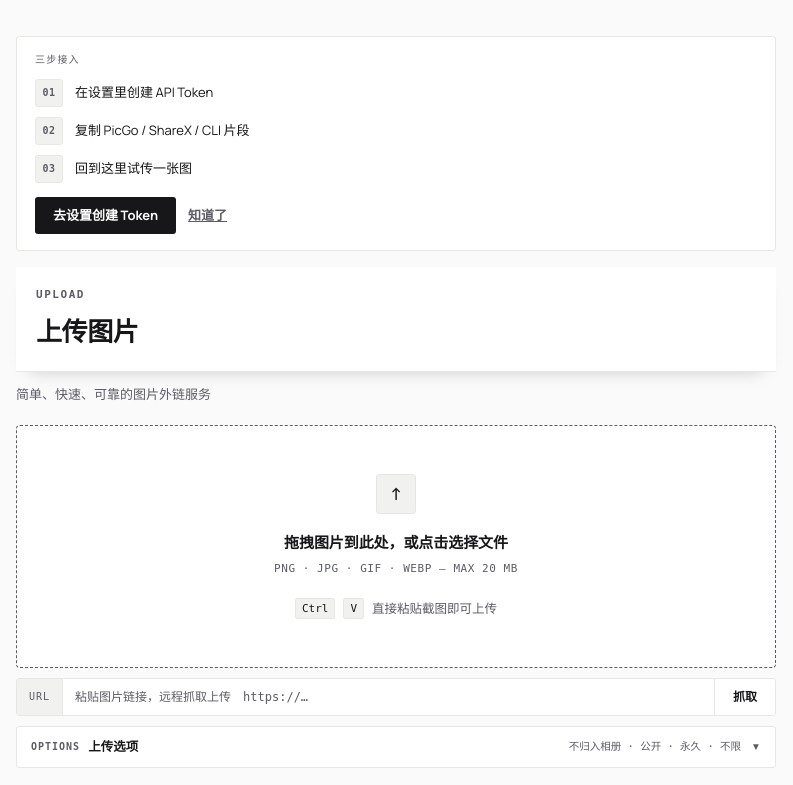
Test: 选项面板默认收起，展开含相册、可见性与有效期（无存储策略）
Expected: the text "PNG · JPG · GIF · WEBP — MAX 20 MB" is shown, [274,562,518,575]
Expected: the text "上传到相册" is not shown
Step 1. Click the button "OPTIONS 上传选项 不归入相册 · 公开 · 永久 · 不限 ▼" → (56, 747), box [17,727,775,766]
(page scrolled)
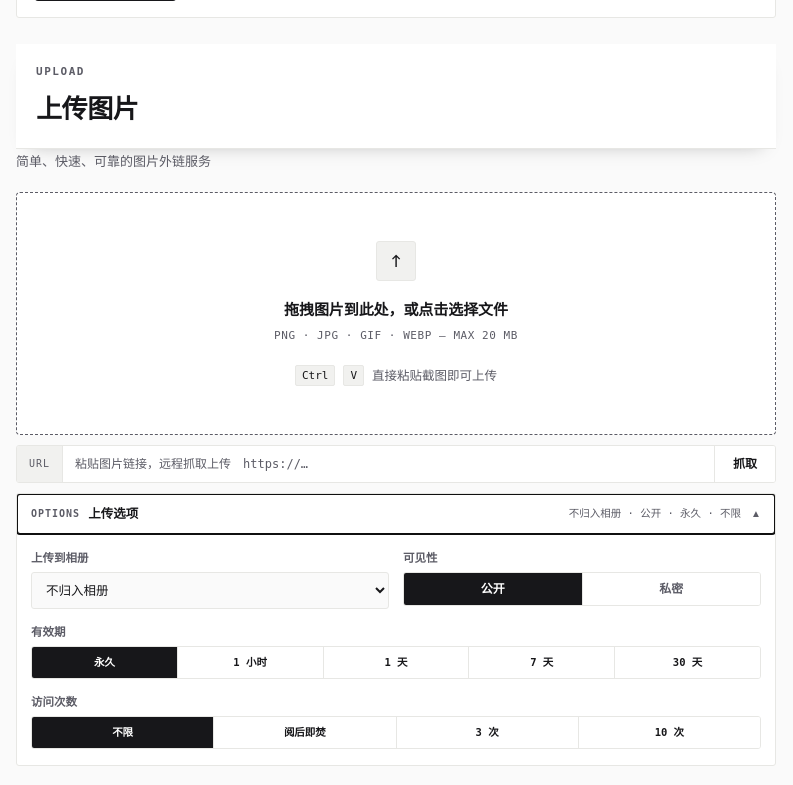
Result: the text "上传到相册" is shown at [31,550,88,564]
Result: the button "公开" is shown at [404,573,582,605]
Result: the text "有效期" is shown at [31,624,66,639]
